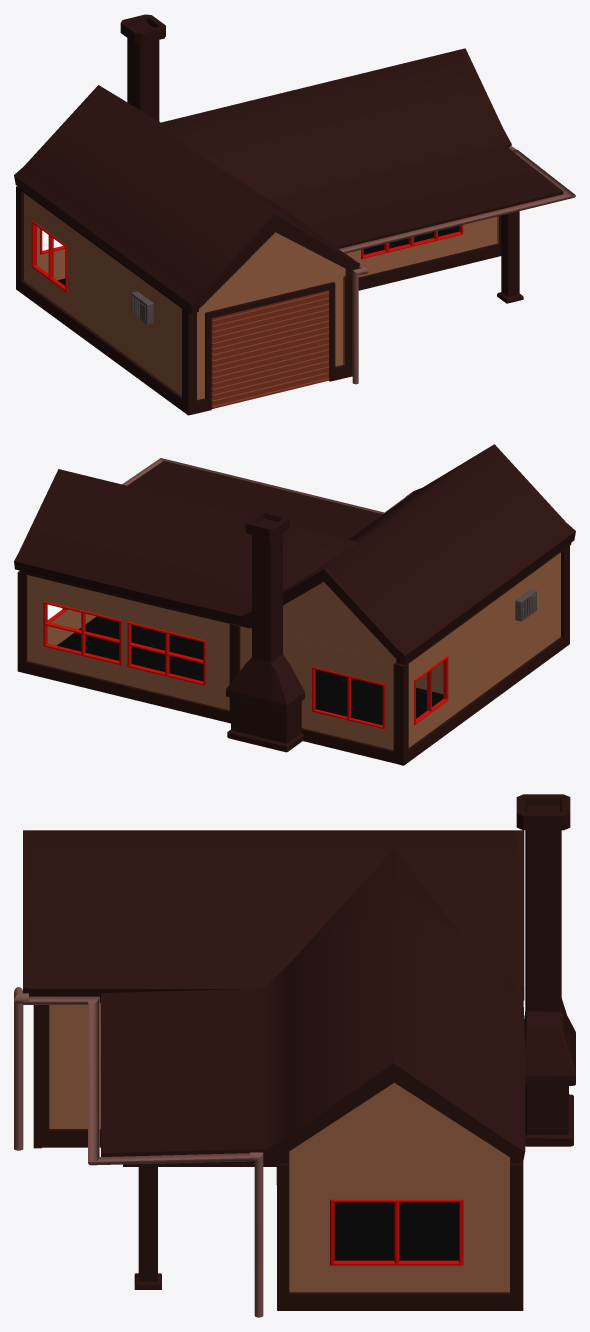
File: Krusty_House.fbx
3 renders of one model, top to bottom at view 1: azimuth 30°, elevation 25°; view 2: azimuth 150°, elevation 25°; view 3: azimuth 270°, elevation 25°, orthographic. The views are drawn at different scales.
Parts seen in each view (by area): view 1: Krusty_House; view 2: Krusty_House; view 3: Krusty_House.
Boxes of the visible parts, bbox=[...] form: Krusty_House: bbox=[14, 14, 575, 415]; Krusty_House: bbox=[14, 444, 575, 765]; Krusty_House: bbox=[14, 794, 575, 1317].
Bounding box in the file's own units: 14.45 × 7.73 × 12.1.
